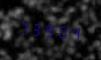four: (70, 21, 82, 42)
nine: (44, 19, 56, 40)
seven: (18, 17, 30, 38)
three: (31, 18, 43, 39)
zero: (57, 20, 69, 41)
